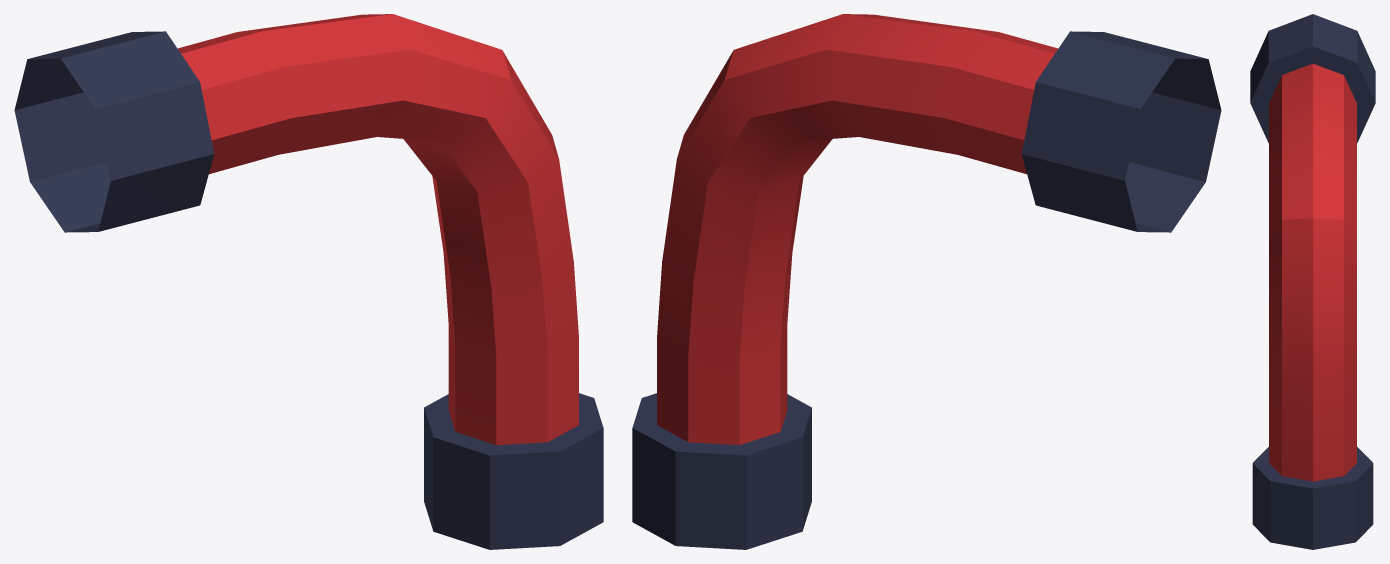
The model's file is Pipe_Red.fbx.
3 renders of one model, left to right at view 1: azimuth 30°, elevation 25°; view 2: azimuth 150°, elevation 25°; view 3: azimuth 270°, elevation 25°, orthographic. The views are drawn at different scales.
Visible parts, largest first — view 1: Pipe_Red; view 2: Pipe_Red; view 3: Pipe_Red.
Boxes of the visible parts, x1,y1,x2,y2 form: Pipe_Red: [14, 14, 603, 549]; Pipe_Red: [632, 14, 1221, 549]; Pipe_Red: [1250, 14, 1375, 549].
Size of the model in its own units: 236 by 239 by 73.89.
